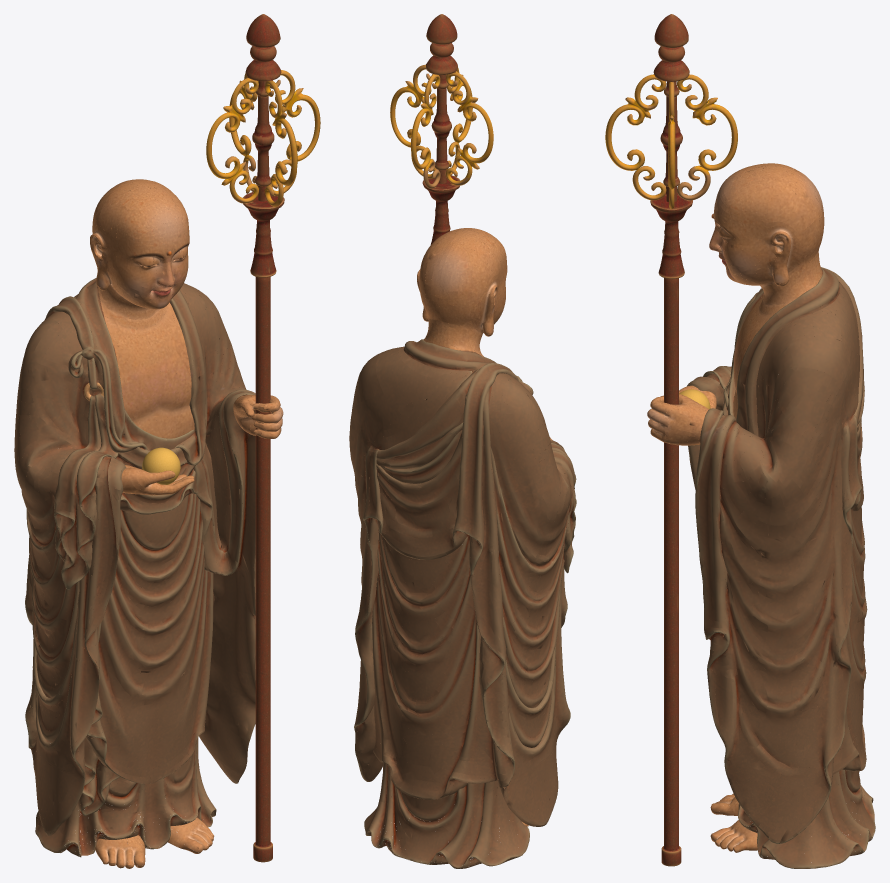
The model's file is ksitigarbha-preview.glb.
The picture shows the model from 3 angles, left to right: view 1: azimuth 30°, elevation 25°; view 2: azimuth 150°, elevation 25°; view 3: azimuth 270°, elevation 25°; orthographic projection. The views are drawn at different scales.
Parts seen in each view (by area): view 1: NgaiDiaTang_Retopo_NgaiDiaTang_BoTat_0.004, NgaiDiaTang_Retopo, NgaiDiaTang_Retopo_NgaiDiaTang_BoTat_0.001, NgaiDiaTang_Retopo_NgaiDiaTang_BoTat_0.002, TichTruong, NgaiDiaTang_Retopo_NgaiDiaTang_BoTat_0.005, NgaiDiaTang_Retopo_NgaiDiaTang_BoTat_0.003, MinhChau; view 2: NgaiDiaTang_Retopo_NgaiDiaTang_BoTat_0.003, NgaiDiaTang_Retopo, NgaiDiaTang_Retopo_NgaiDiaTang_BoTat_0.004, NgaiDiaTang_Retopo_NgaiDiaTang_BoTat_0.005, NgaiDiaTang_Retopo_NgaiDiaTang_BoTat_0.002, NgaiDiaTang_Retopo_NgaiDiaTang_BoTat_0.001, TichTruong; view 3: NgaiDiaTang_Retopo_NgaiDiaTang_BoTat_0.005, TichTruong, NgaiDiaTang_Retopo_NgaiDiaTang_BoTat_0.001, NgaiDiaTang_Retopo_NgaiDiaTang_BoTat_0.003, NgaiDiaTang_Retopo_NgaiDiaTang_BoTat_0.002, NgaiDiaTang_Retopo_NgaiDiaTang_BoTat_0.004, NgaiDiaTang_Retopo.
Part boxes in pixels (box(x1,y1,x2,y2)): NgaiDiaTang_Retopo_NgaiDiaTang_BoTat_0.004: box(26, 278, 213, 783); NgaiDiaTang_Retopo: box(14, 311, 283, 835); NgaiDiaTang_Retopo_NgaiDiaTang_BoTat_0.001: box(90, 179, 214, 868); NgaiDiaTang_Retopo_NgaiDiaTang_BoTat_0.002: box(35, 391, 255, 853); TichTruong: box(206, 14, 320, 862); NgaiDiaTang_Retopo_NgaiDiaTang_BoTat_0.005: box(74, 283, 282, 783); NgaiDiaTang_Retopo_NgaiDiaTang_BoTat_0.003: box(28, 296, 216, 857); MinhChau: box(142, 447, 180, 484); NgaiDiaTang_Retopo_NgaiDiaTang_BoTat_0.003: box(363, 369, 562, 868); NgaiDiaTang_Retopo: box(385, 373, 576, 826); NgaiDiaTang_Retopo_NgaiDiaTang_BoTat_0.004: box(389, 339, 566, 799); NgaiDiaTang_Retopo_NgaiDiaTang_BoTat_0.005: box(349, 339, 480, 781); NgaiDiaTang_Retopo_NgaiDiaTang_BoTat_0.002: box(356, 437, 552, 867); NgaiDiaTang_Retopo_NgaiDiaTang_BoTat_0.001: box(380, 228, 528, 826); TichTruong: box(390, 14, 493, 244); NgaiDiaTang_Retopo_NgaiDiaTang_BoTat_0.005: box(647, 271, 859, 843); TichTruong: box(605, 14, 737, 866); NgaiDiaTang_Retopo_NgaiDiaTang_BoTat_0.001: box(709, 163, 824, 852); NgaiDiaTang_Retopo_NgaiDiaTang_BoTat_0.003: box(687, 272, 875, 868); NgaiDiaTang_Retopo_NgaiDiaTang_BoTat_0.002: box(679, 385, 875, 866); NgaiDiaTang_Retopo_NgaiDiaTang_BoTat_0.004: box(722, 267, 865, 771); NgaiDiaTang_Retopo: box(648, 273, 860, 677).
Bounding box in the file's own units: 0.6241 × 2.04 × 0.5891.
Materials: 3 (3 with a texture image).
